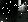person: (22, 2, 28, 14), (19, 2, 24, 15)
